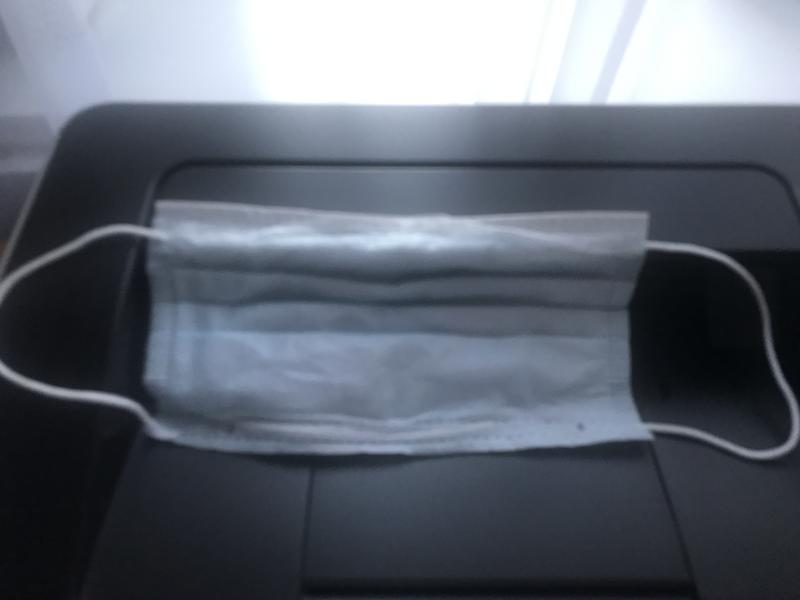medical_mask: (3, 200, 800, 461)
